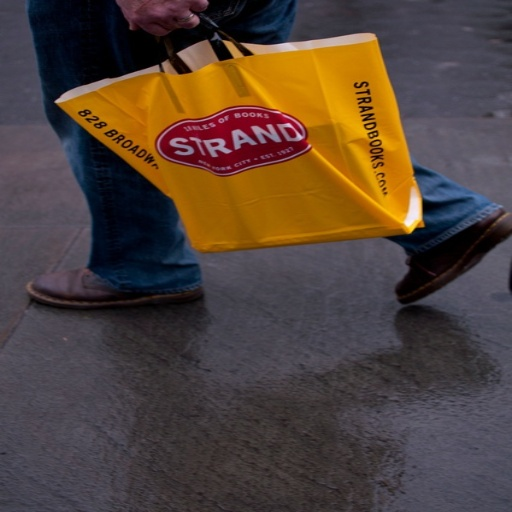hand: (104, 2, 193, 27)
